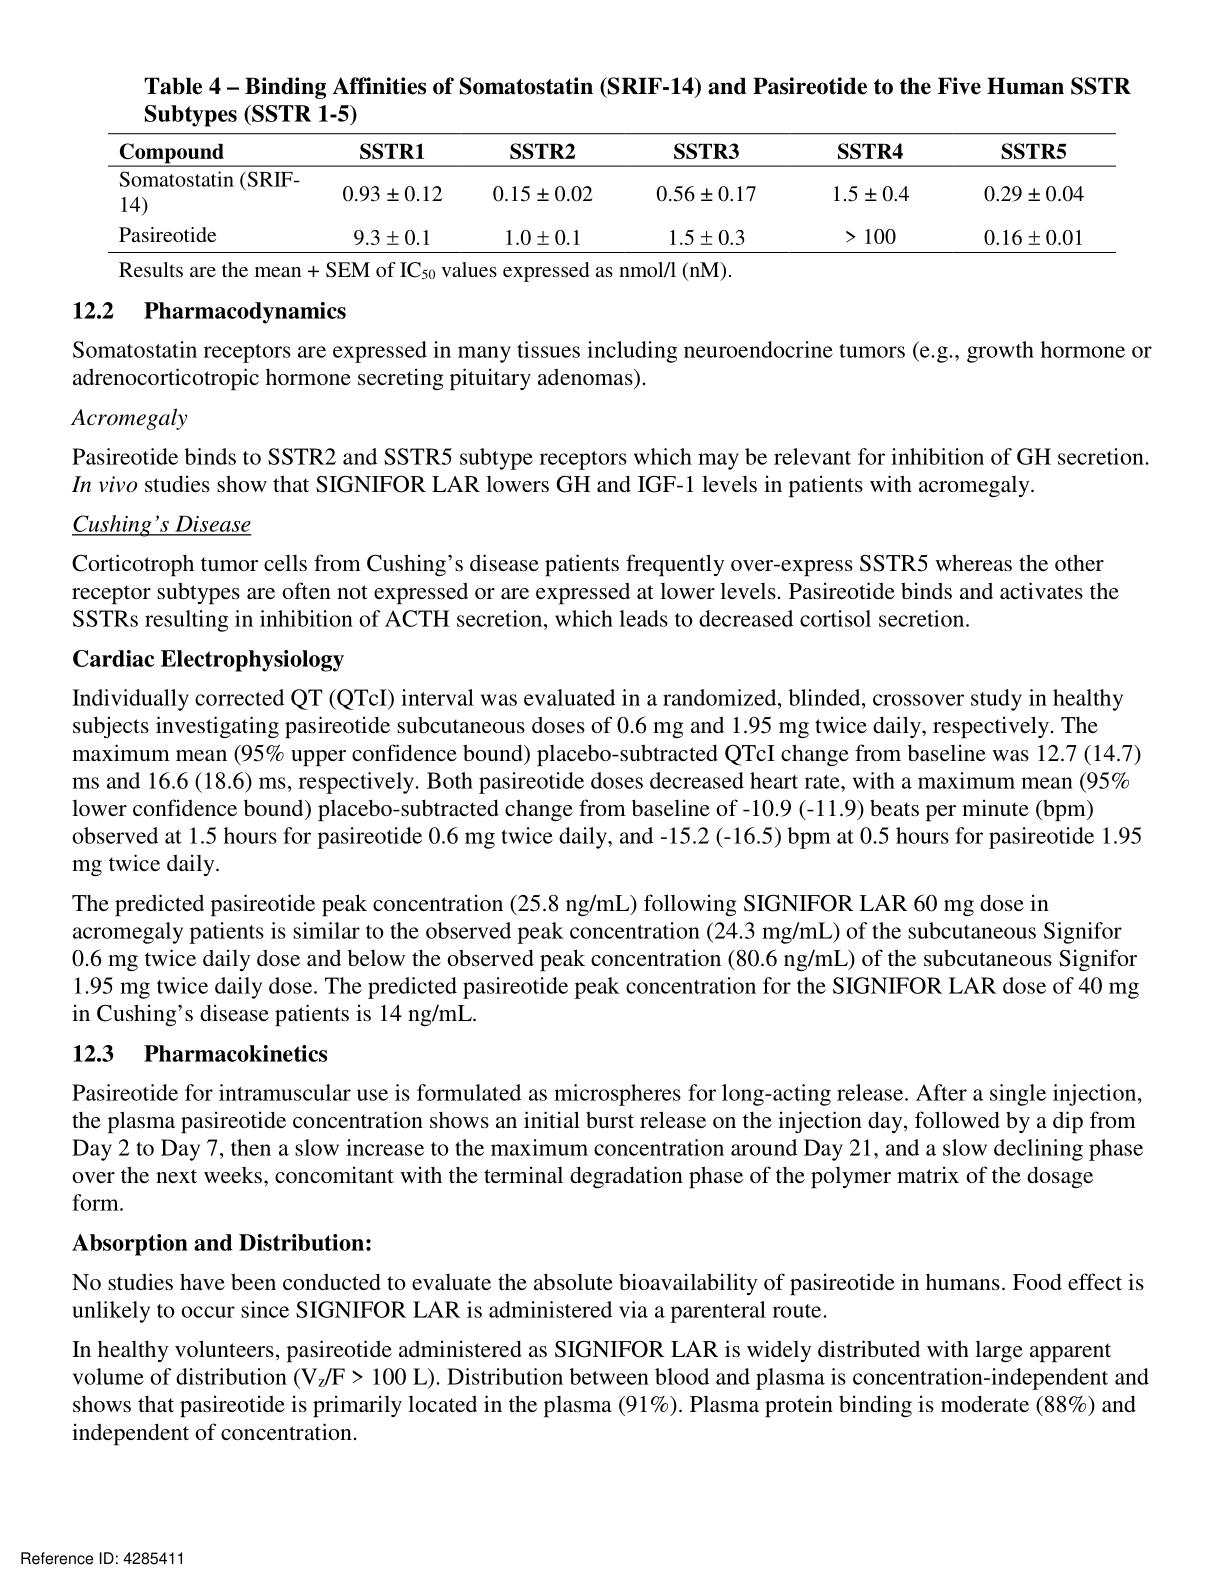partial_lined: (107, 132, 1119, 255)
